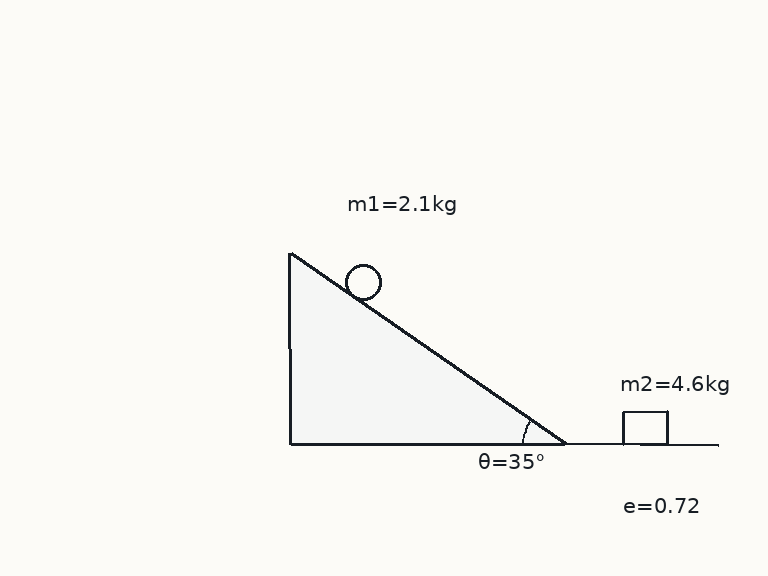ball: (343, 262, 383, 302)
block: (621, 410, 669, 446)
ramp: (288, 251, 565, 446)
